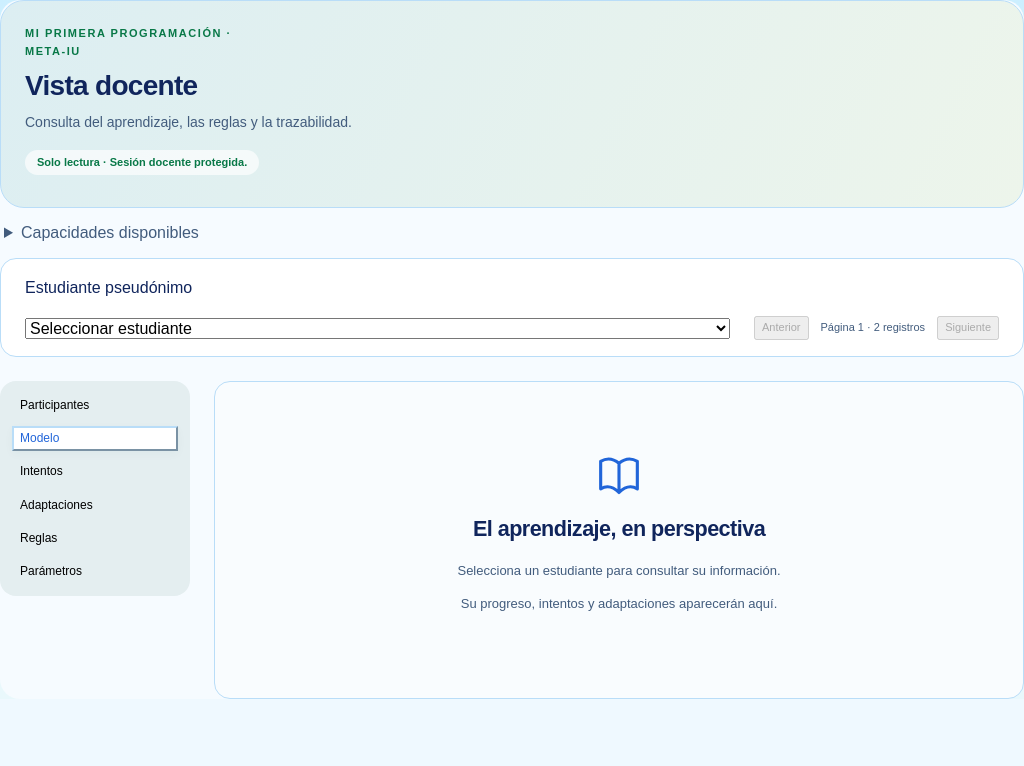
it: switching students clears old data and ignores late responses
Select "Estudiante …A · 0 intentos" in the dropdown labelled "Estudiante pseudónimo" at (378, 328), box [25,318,730,339]
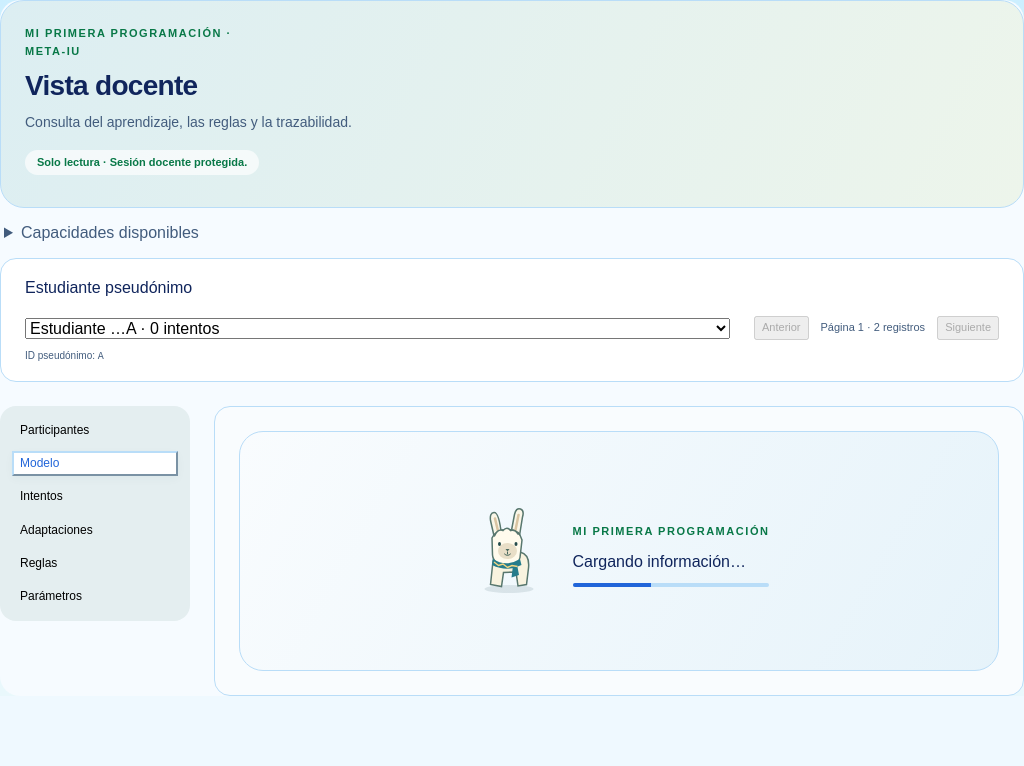
Select "Estudiante …B · 0 intentos" in the dropdown labelled "Estudiante pseudónimo" at (378, 328), box [25,318,730,339]
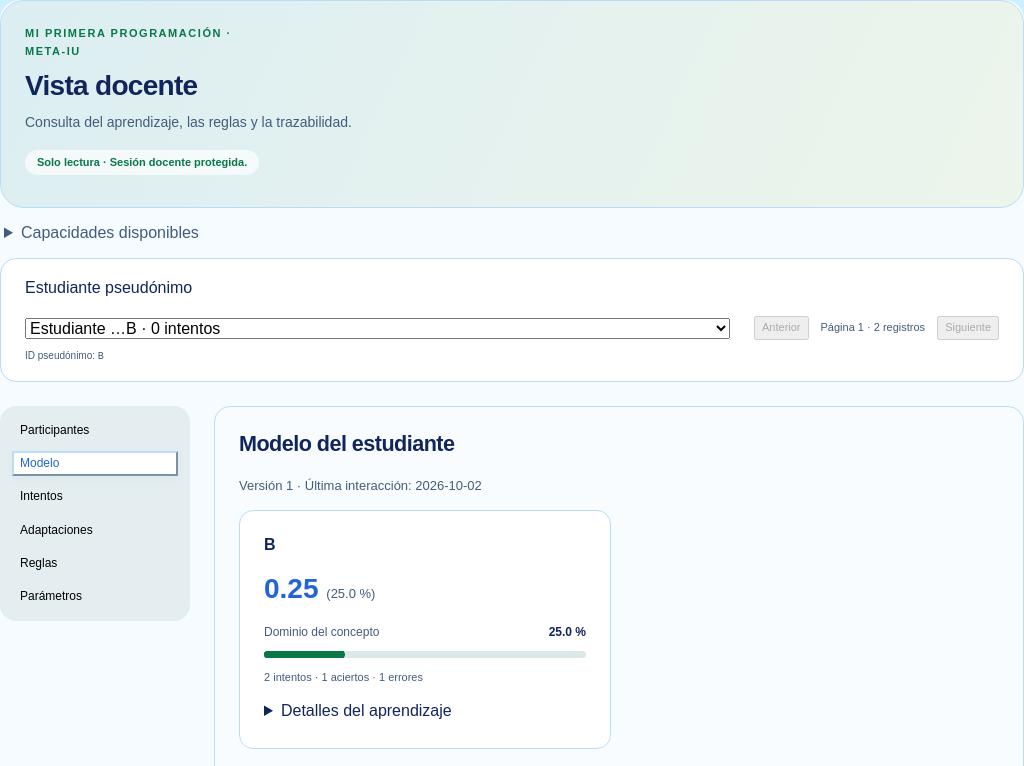
Check: the heading "B" is shown, box [264,536,275,553]
